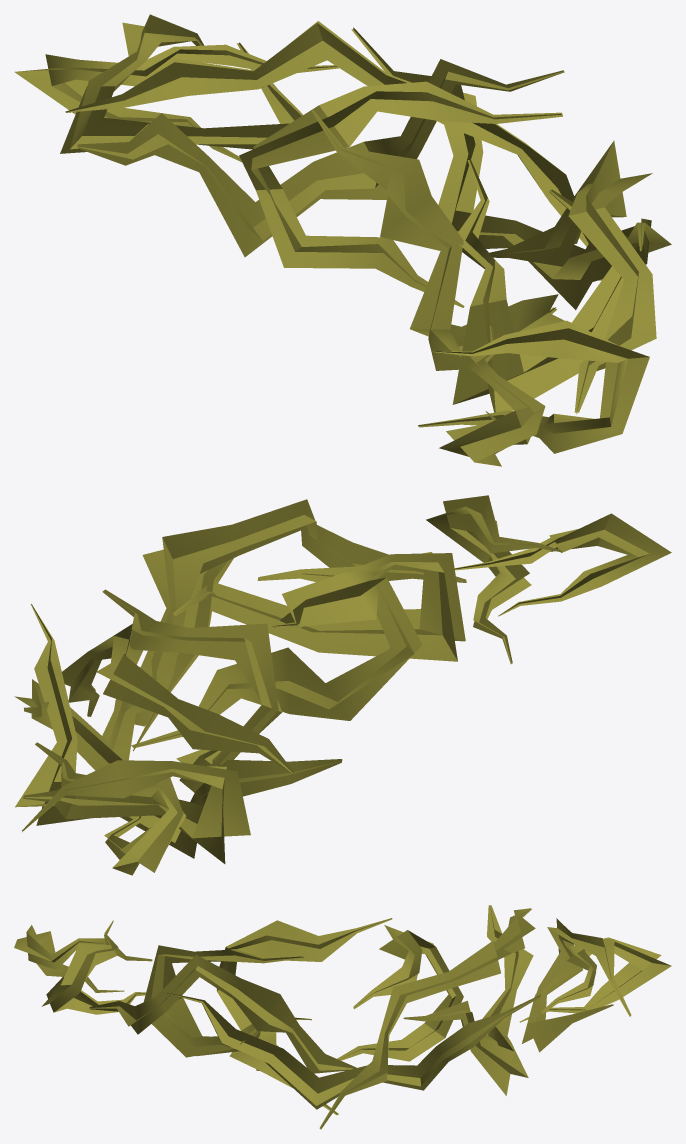
The model's file is etc_gargoyle_weapon_aura_bow_elec_eff.glb.
3 views of the same model, one above another, from view 1: azimuth 30°, elevation 25°; view 2: azimuth 150°, elevation 25°; view 3: azimuth 270°, elevation 25° (orthographic). The views are drawn at different scales.
Bounding box in the file's own units: 1.11 × 0.561 × 2.38.
